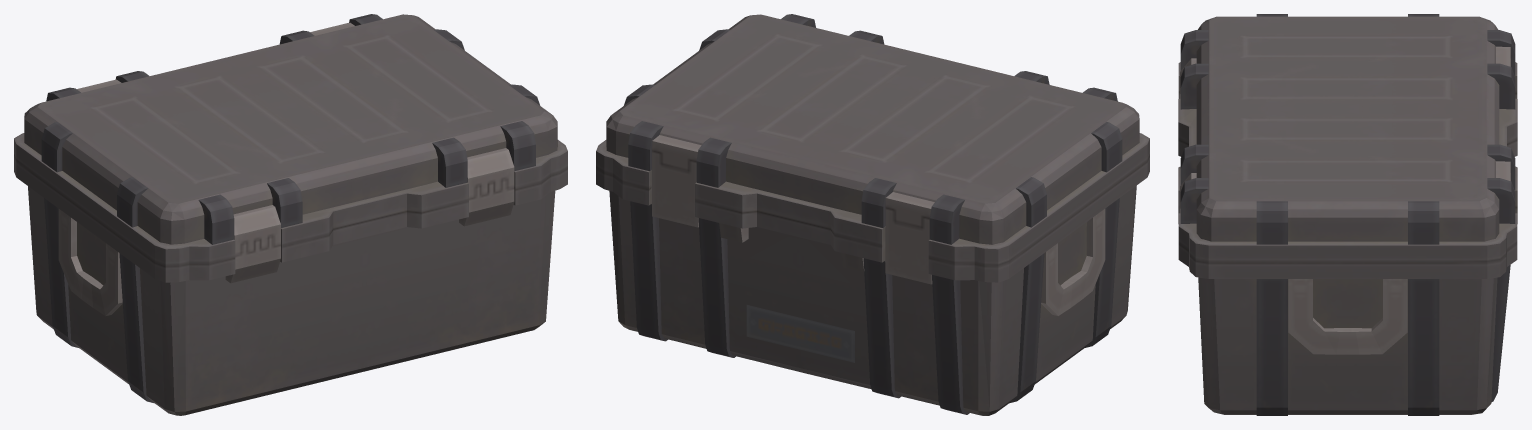
The model's file is P_AmmoBox_004_S1_M01.obj.
3 renders of one model, left to right at view 1: azimuth 30°, elevation 25°; view 2: azimuth 150°, elevation 25°; view 3: azimuth 270°, elevation 25°, orthographic.
Bounding box in the file's own units: 0.7918 × 0.4009 × 0.5637.
1 material, 1 textured.
